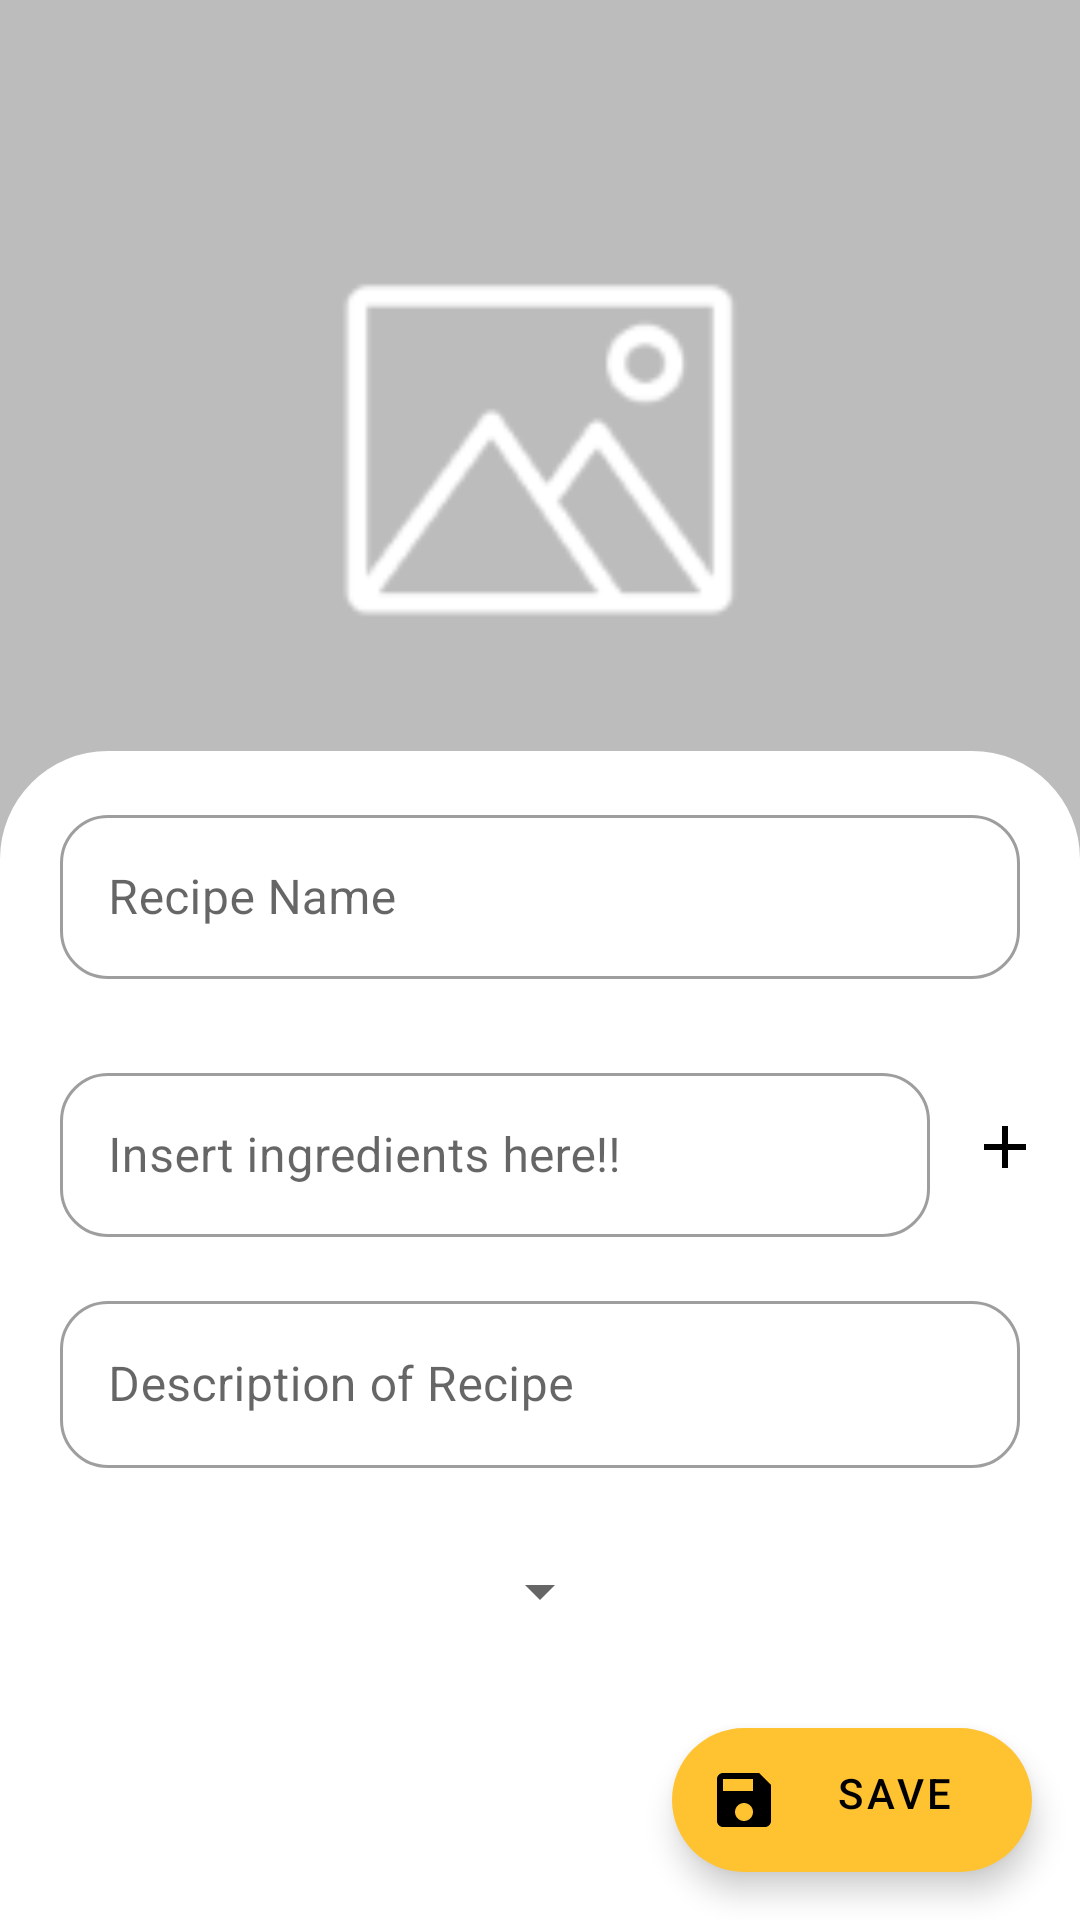

Named icons in this screenshot (1080w x 1920h) and their bounding boxes, (x1, y1, x2, y2):
add: (984, 1126, 1026, 1168)
